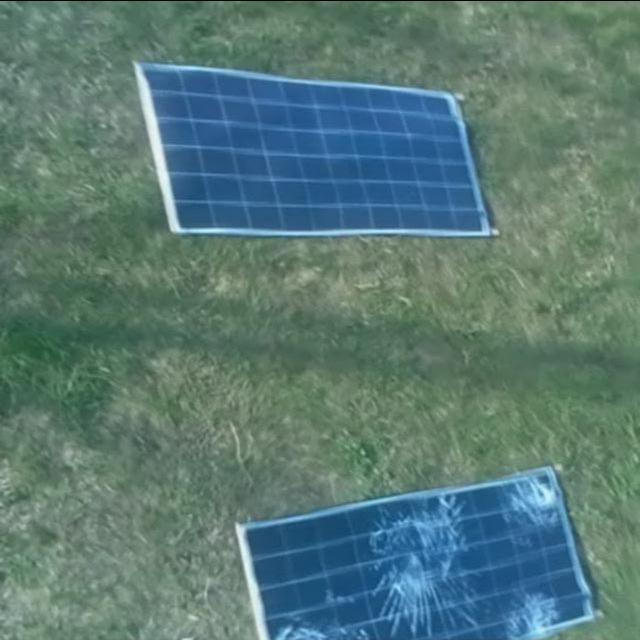cracked: (231, 465, 602, 633)
